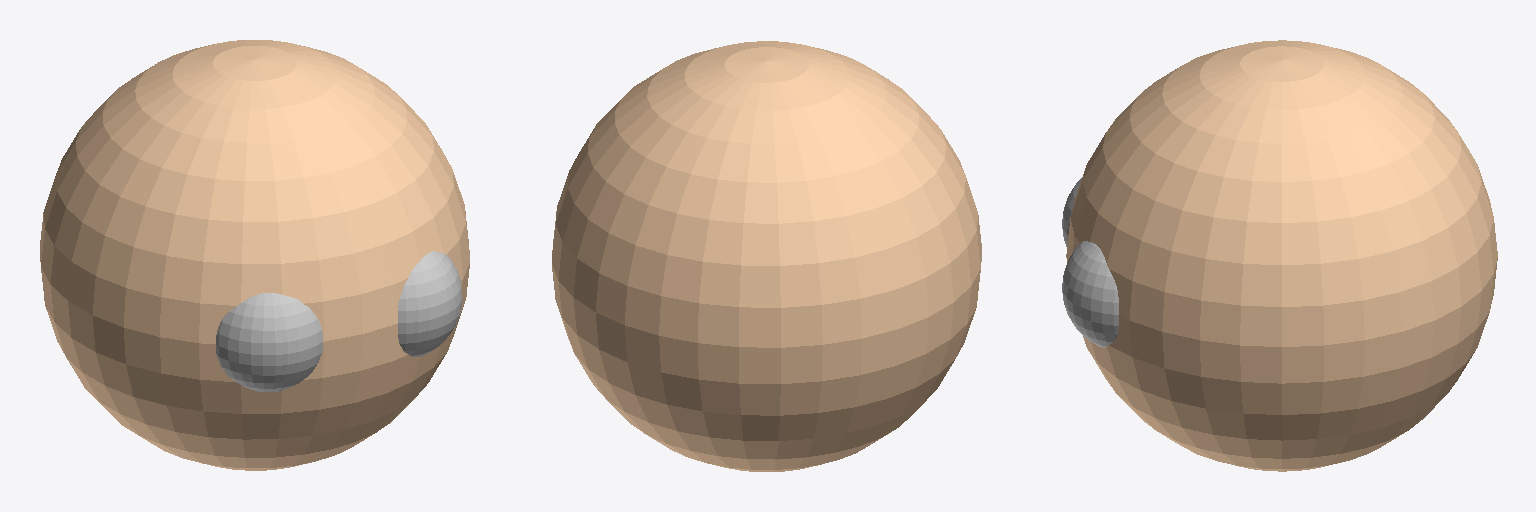
3 renders of one model, left to right at view 1: azimuth 30°, elevation 25°; view 2: azimuth 150°, elevation 25°; view 3: azimuth 270°, elevation 25°, orthographic.
Parts seen in each view (by area): view 1: 球.001, 球, 球.002_球.003; view 2: 球.001; view 3: 球.001, 球.002_球.003.
Part boxes in pixels (left/top/right/bottom): 球.001: left=40, top=40, right=469, bottom=470; 球: left=216, top=293, right=322, bottom=391; 球.002_球.003: left=398, top=251, right=462, bottom=356; 球.001: left=552, top=41, right=981, bottom=471; 球.001: left=1066, top=40, right=1497, bottom=471; 球.002_球.003: left=1062, top=241, right=1118, bottom=347.
Bounding box in the file's own units: 2 × 2 × 2.02.
Materials: 2 (1 with a texture image).